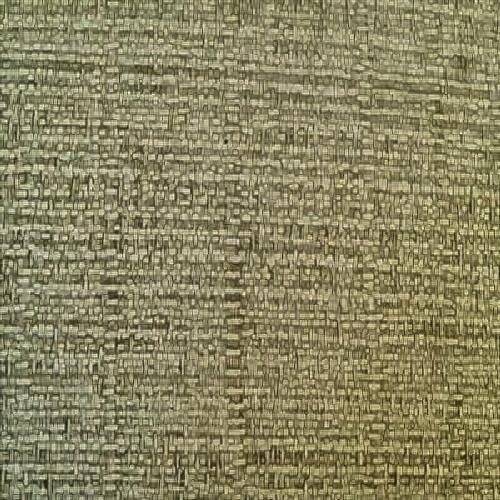chair: (43, 31, 464, 486)
